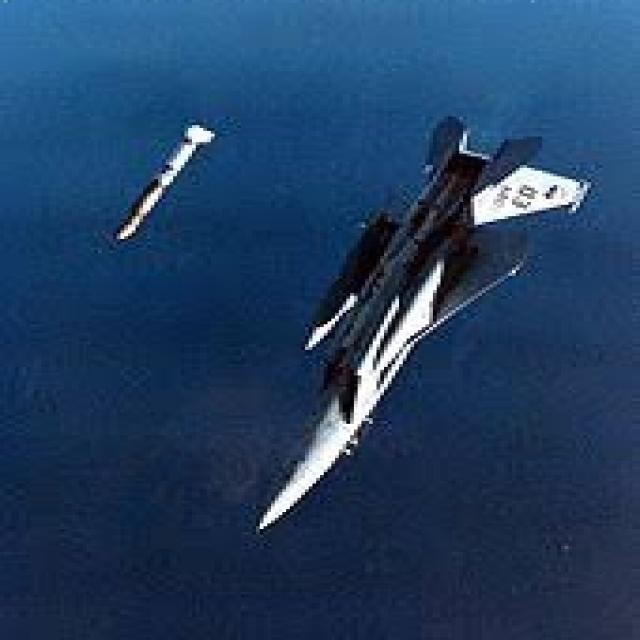Missile: (109, 123, 231, 261)
